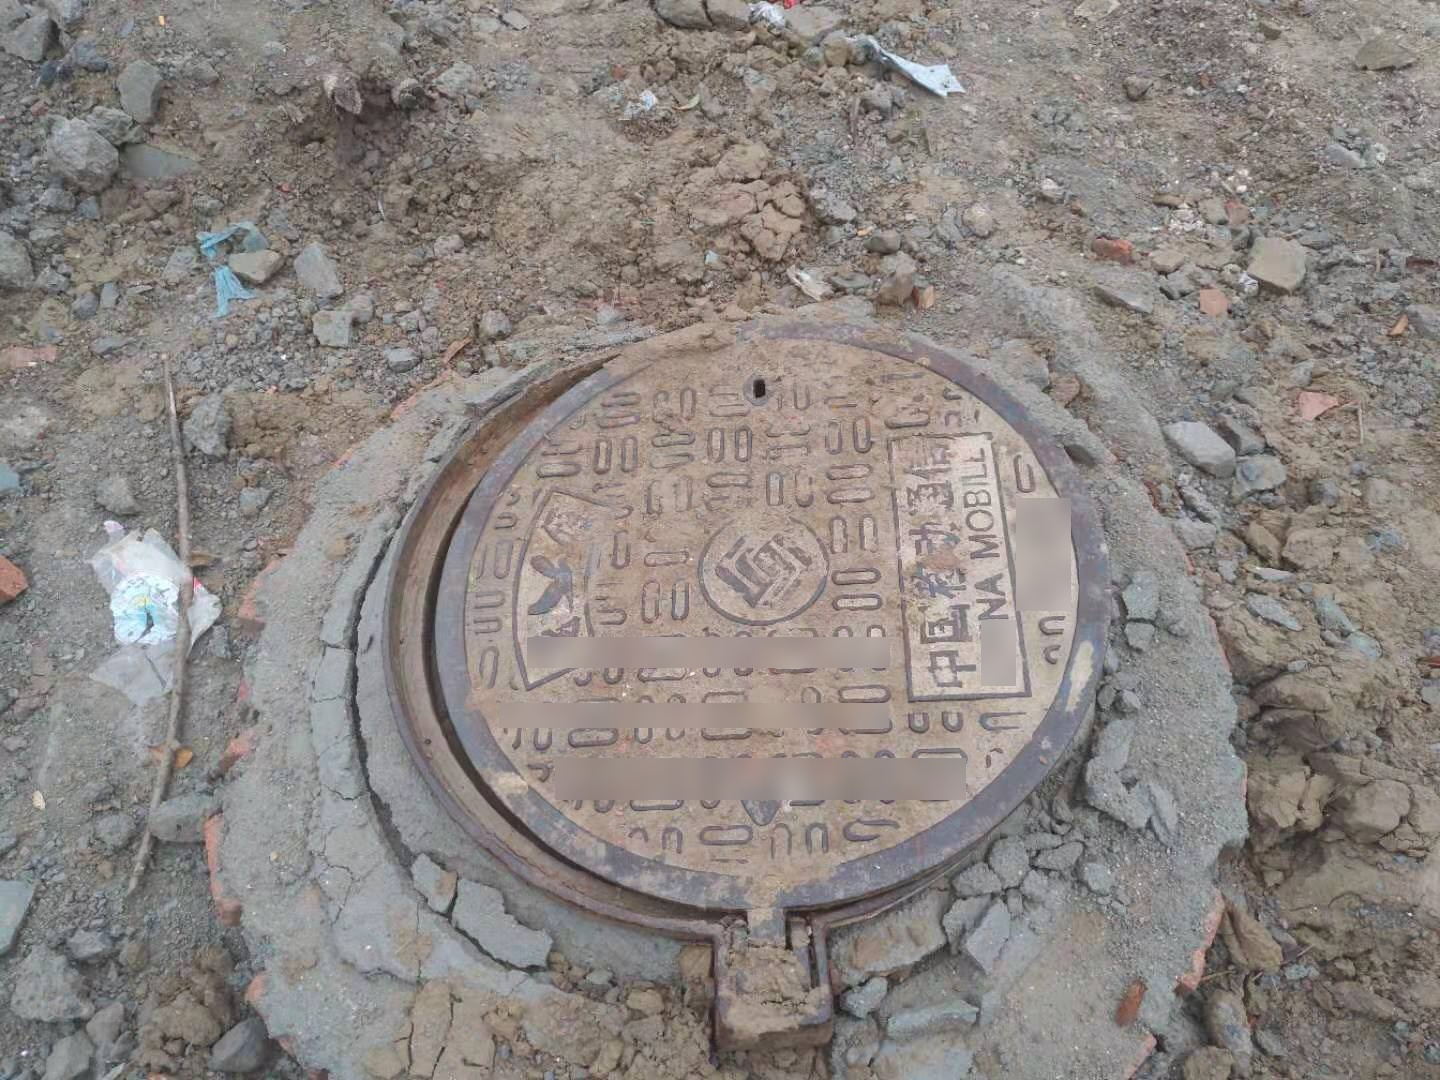uncovered: (384, 310, 1112, 1057)
